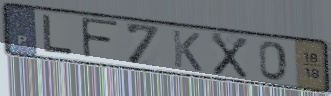0: (258, 40, 289, 82)
7: (124, 21, 163, 67)
F: (79, 16, 122, 62)
K: (170, 28, 205, 74)
L: (41, 13, 75, 58)
X: (209, 31, 250, 81)
